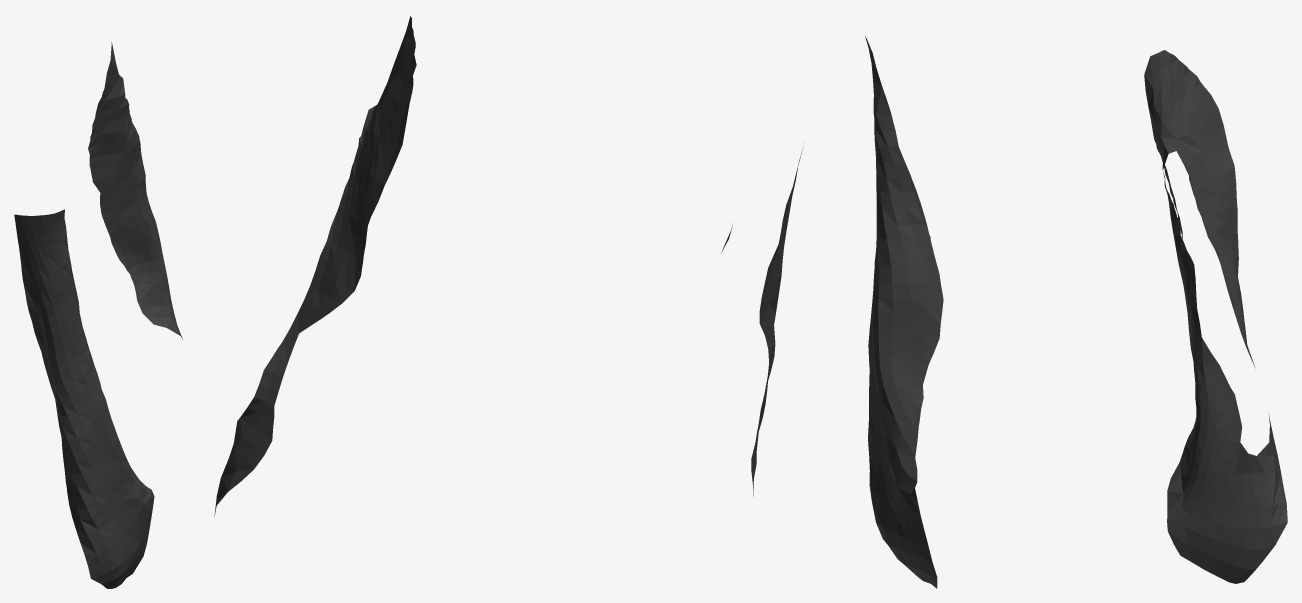
The model's file is eq_dist_limb_Abaxial_Palmar_Ligg.glb.
3 views of the same model, side by side, from view 1: azimuth 30°, elevation 25°; view 2: azimuth 150°, elevation 25°; view 3: azimuth 270°, elevation 25° (orthographic). The views are drawn at different scales.
Visible parts, largest first — view 1: eq_dist_limb_Abaxial_Palmar_Ligg; view 2: eq_dist_limb_Abaxial_Palmar_Ligg; view 3: eq_dist_limb_Abaxial_Palmar_Ligg.
Boxes of the visible parts, x1,y1,x2,y2 form: eq_dist_limb_Abaxial_Palmar_Ligg: (14,42,182,588); eq_dist_limb_Abaxial_Palmar_Ligg: (214,16,803,517); eq_dist_limb_Abaxial_Palmar_Ligg: (865,36,1287,588).
Bounding box in the file's own units: 0.00612 × 0.00921 × 0.00614.
1 material, 1 textured.
